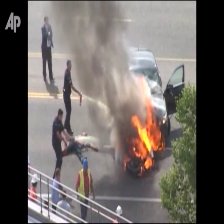fire_h: (123, 75, 165, 158)
fire_l: (144, 156, 153, 169), (123, 157, 130, 171), (139, 164, 143, 176)
